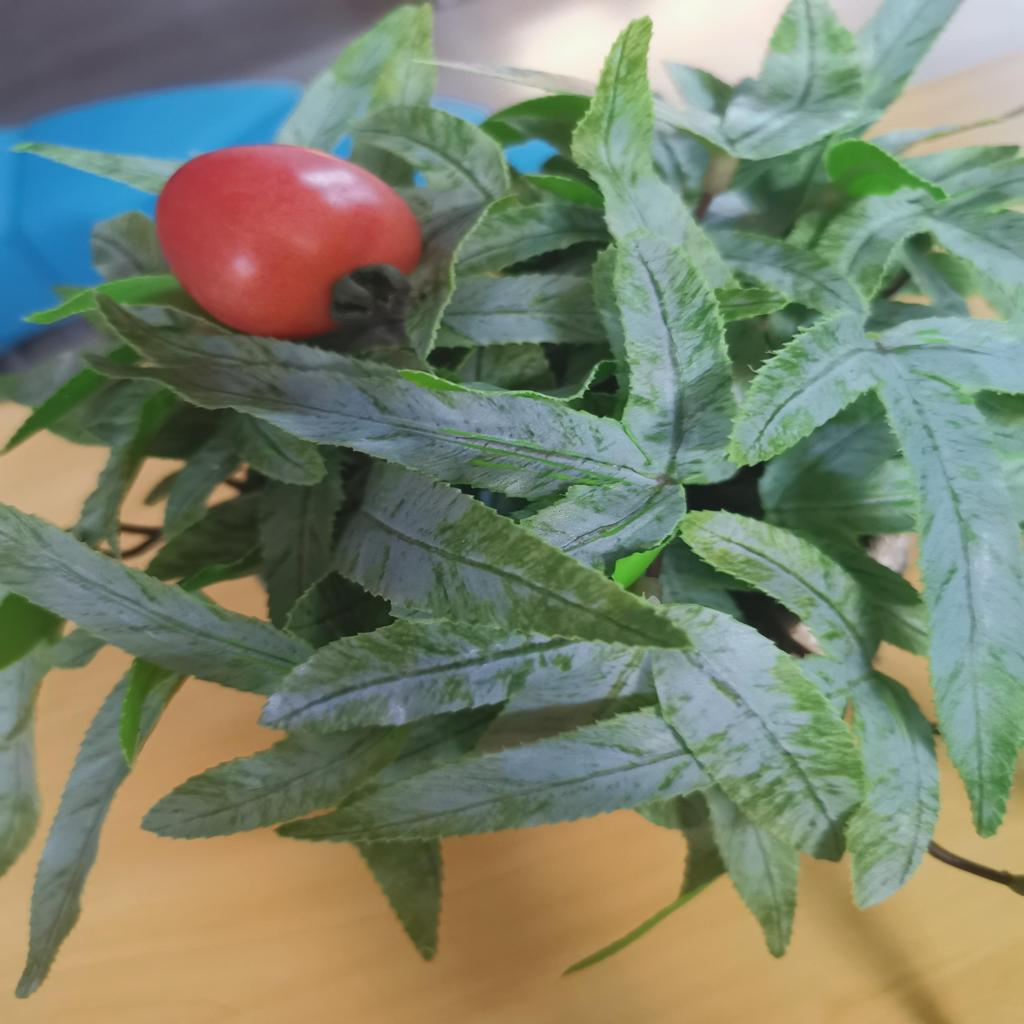tomato: (146, 146, 426, 342)
